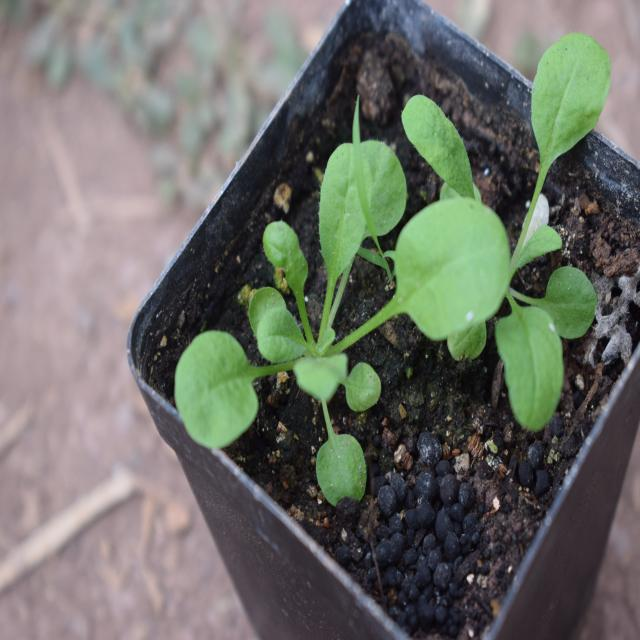Shepherd_Purse: (181, 136, 481, 496)
